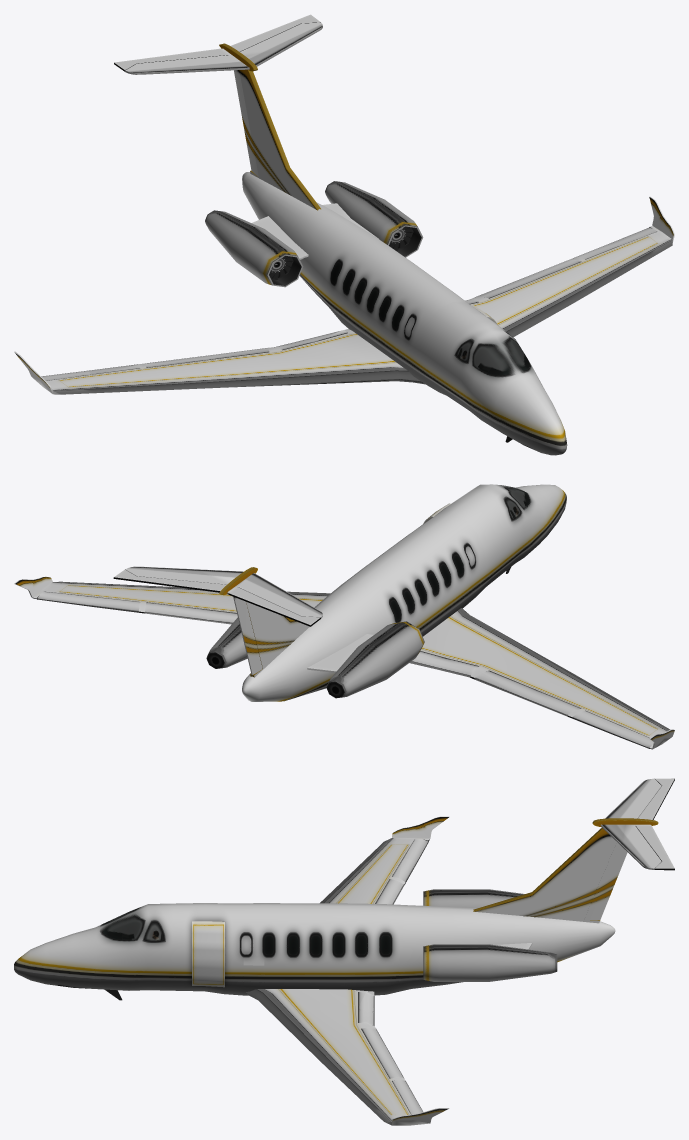
The model's file is jet.fbx.
The picture shows the model from 3 angles, top to bottom: view 1: azimuth 30°, elevation 25°; view 2: azimuth 150°, elevation 25°; view 3: azimuth 270°, elevation 25°; orthographic projection. The views are drawn at different scales.
Visible parts, largest first — view 1: part2:body_body, part2:body_wings, part2:body_engine, part2:body_tail, part2:elevator_tail, part2:flap_l_wings, part2:tail_tail, part2:flap_r_wings; view 2: part2:body_body, part2:body_wings, part2:body_engine, part2:body_tail, part2:elevator_tail, part2:flap_r_wings, part2:flap_l_wings, part2:ailron_l_wings, part2:ailron_r_wings, part2:tail_tail, part2:flap_r_01_wings; view 3: part2:body_body, part2:body_wings, part2:body_tail, part2:body_engine, part2:door_door, part2:elevator_tail, part2:tail_tail, part2:flap_l_wings, part2:ailron_r_wings, part2:flap_l_01_wings.
Part boxes in pixels (box(x1,y1,x2,y2)): part2:body_body: box(242, 172, 567, 455); part2:body_wings: box(14, 196, 674, 394); part2:body_engine: box(205, 181, 512, 442); part2:body_tail: box(125, 22, 322, 210); part2:elevator_tail: box(114, 14, 320, 71); part2:flap_l_wings: box(475, 259, 581, 298); part2:tail_tail: box(234, 70, 258, 176); part2:flap_r_wings: box(145, 348, 268, 367); part2:body_body: box(242, 484, 566, 701); part2:body_wings: box(14, 576, 674, 749); part2:body_engine: box(206, 567, 510, 698); part2:body_tail: box(125, 566, 322, 677); part2:elevator_tail: box(113, 569, 320, 626); part2:flap_r_wings: box(474, 670, 581, 716); part2:flap_l_wings: box(145, 602, 237, 624); part2:ailron_l_wings: box(37, 591, 139, 612); part2:ailron_r_wings: box(572, 710, 653, 748); part2:tail_tail: box(233, 596, 262, 675); part2:flap_r_01_wings: box(409, 651, 478, 677); part2:body_body: box(14, 903, 615, 995); part2:body_wings: box(246, 816, 449, 1125); part2:body_tail: box(473, 778, 661, 923); part2:body_engine: box(105, 889, 557, 1000); part2:door_door: box(192, 921, 224, 987); part2:elevator_tail: box(635, 778, 674, 870); part2:tail_tail: box(583, 842, 627, 920); part2:flap_l_wings: box(361, 1027, 403, 1078); part2:ailron_r_wings: box(392, 839, 428, 882); part2:flap_l_01_wings: box(358, 992, 374, 1025).
Bounding box in the file's own units: 3625 × 1048 × 3469.
